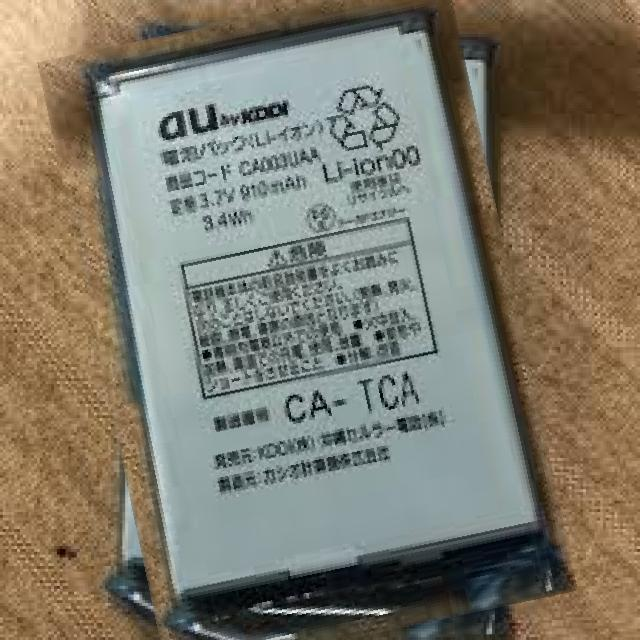Battery: (94, 5, 562, 593)
